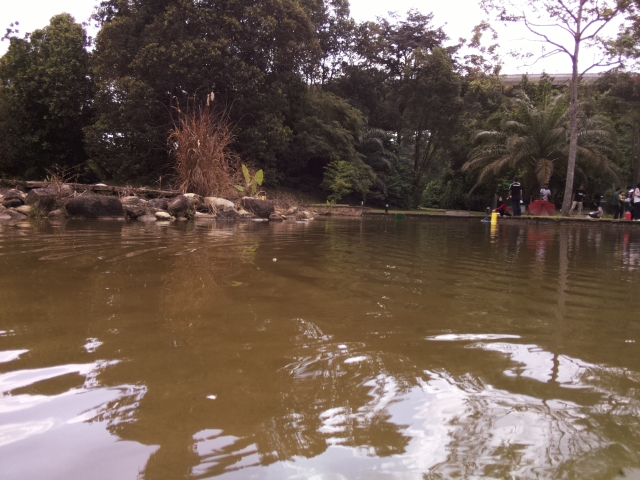obstacle: (395, 213, 404, 221)
